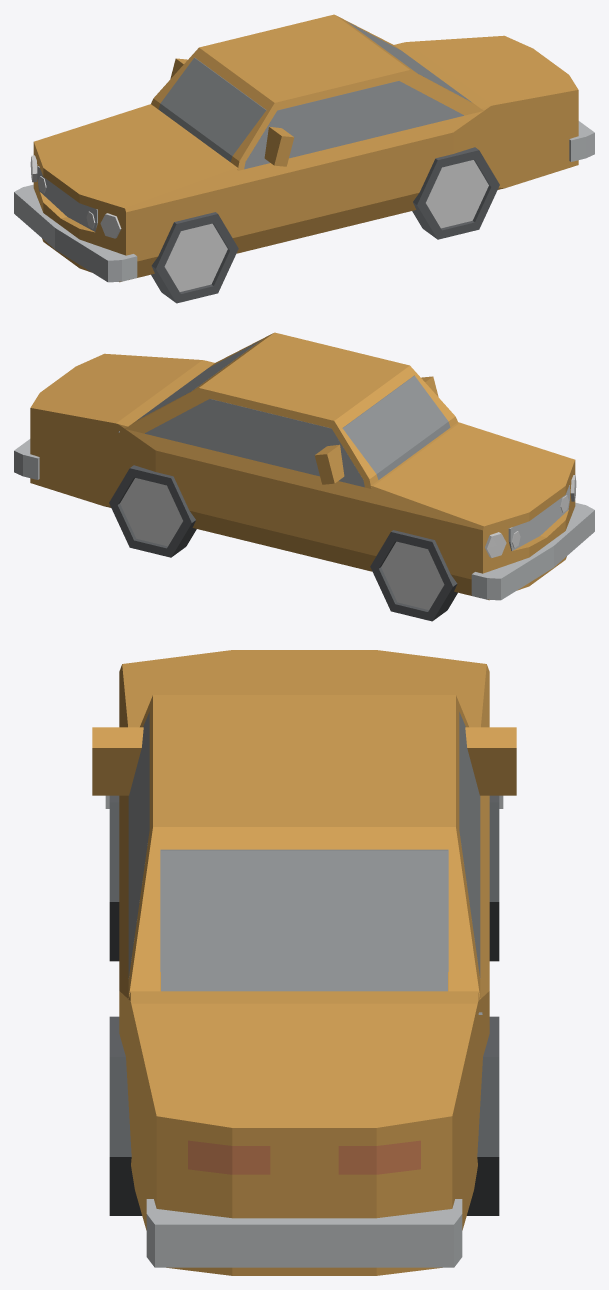
The model's file is car3.glb.
3 renders of one model, top to bottom at view 1: azimuth 30°, elevation 25°; view 2: azimuth 150°, elevation 25°; view 3: azimuth 270°, elevation 25°, orthographic. The views are drawn at different scales.
Parts seen in each view (by area): view 1: Mesh_Mesh_head_geo.001_lambert2SG.001; view 2: Mesh_Mesh_head_geo.001_lambert2SG.001; view 3: Mesh_Mesh_head_geo.001_lambert2SG.001.
Part boxes in pixels (<box>): Mesh_Mesh_head_geo.001_lambert2SG.001: <box>14,14,594,303</box>; Mesh_Mesh_head_geo.001_lambert2SG.001: <box>14,332,594,621</box>; Mesh_Mesh_head_geo.001_lambert2SG.001: <box>92,650,516,1275</box>.
Bounding box in the file's own units: 9.49 × 3 × 3.47.
